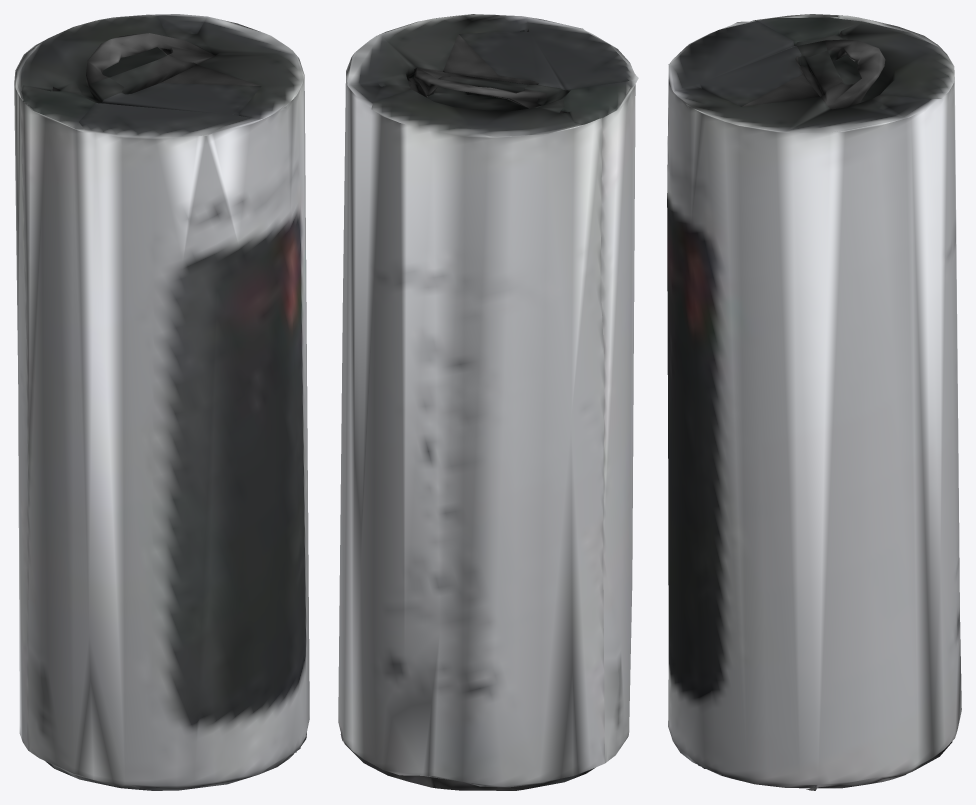
Rendered from Logitech_Ultimate_Ears_Boom_Wireless_Speaker_Night_Black-medium.glb.
3 views of the same model, side by side, from view 1: azimuth 30°, elevation 25°; view 2: azimuth 150°, elevation 25°; view 3: azimuth 270°, elevation 25° (orthographic).
Parts seen in each view (by area): view 1: Logitech_Ultimate_Ears_Boom_Wireless_Speaker_Night_Black; view 2: Logitech_Ultimate_Ears_Boom_Wireless_Speaker_Night_Black; view 3: Logitech_Ultimate_Ears_Boom_Wireless_Speaker_Night_Black.
Part boxes in pixels (bbox=[...]): Logitech_Ultimate_Ears_Boom_Wireless_Speaker_Night_Black: bbox=[14, 14, 309, 790]; Logitech_Ultimate_Ears_Boom_Wireless_Speaker_Night_Black: bbox=[338, 14, 638, 790]; Logitech_Ultimate_Ears_Boom_Wireless_Speaker_Night_Black: bbox=[667, 14, 961, 790].
Bounding box in the file's own units: 0.1057 × 0.2604 × 0.1036.
Materials: 1 (1 with a texture image).
